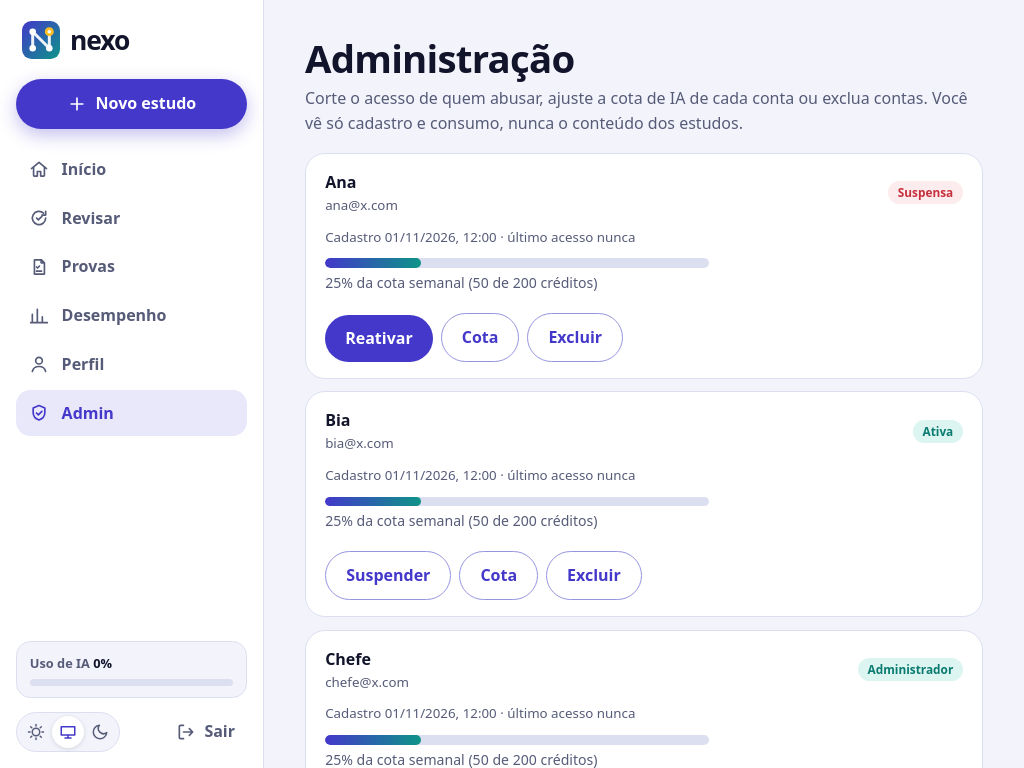
Test: excluir só habilita depois de digitar EXCLUIR e mostra o erro do servidor
Click the button "Excluir" below "bia@x.com" at (594, 576), box [546,551,642,600]
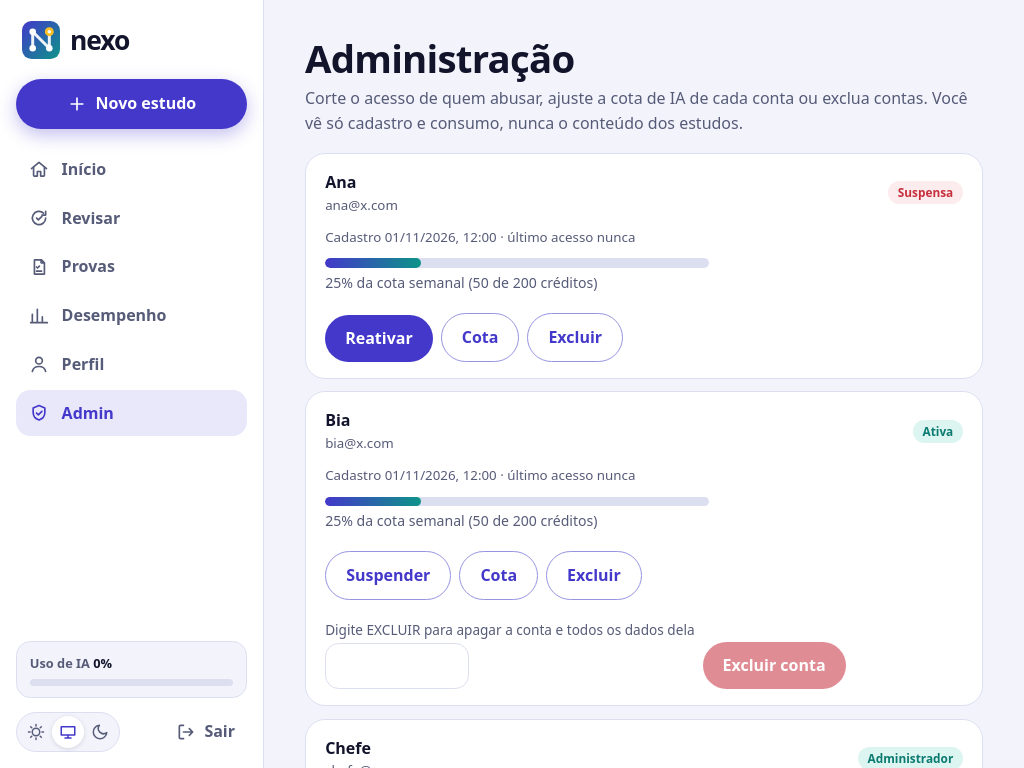
Expected: the button "Excluir conta" is disabled, [702,642,846,689]
Type "EXCLUIR" into the field labelled "Digite EXCLUIR para apagar a conta e todos os dados dela" at (397, 666), box [325,643,469,689]
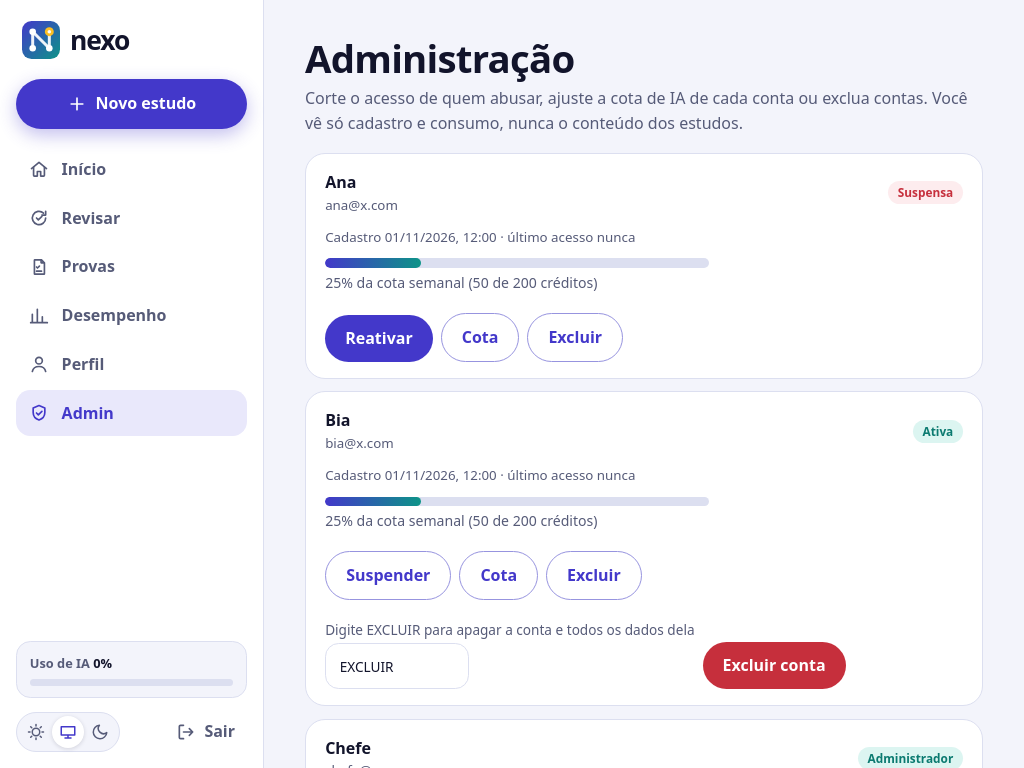
Expected: the button "Excluir conta" is enabled
Click the button "Excluir conta" at (774, 666), box [702,642,846,689]
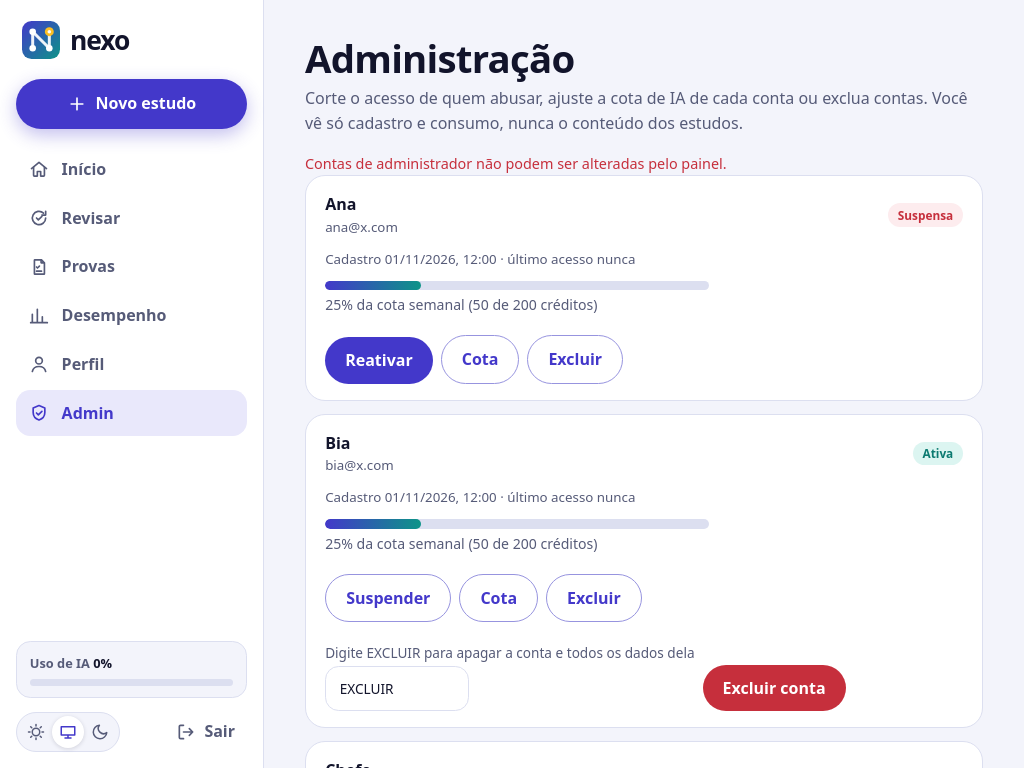
Expected: the text "Contas de administrador não podem ser alteradas pelo painel." is shown, [305,154,727,173]
